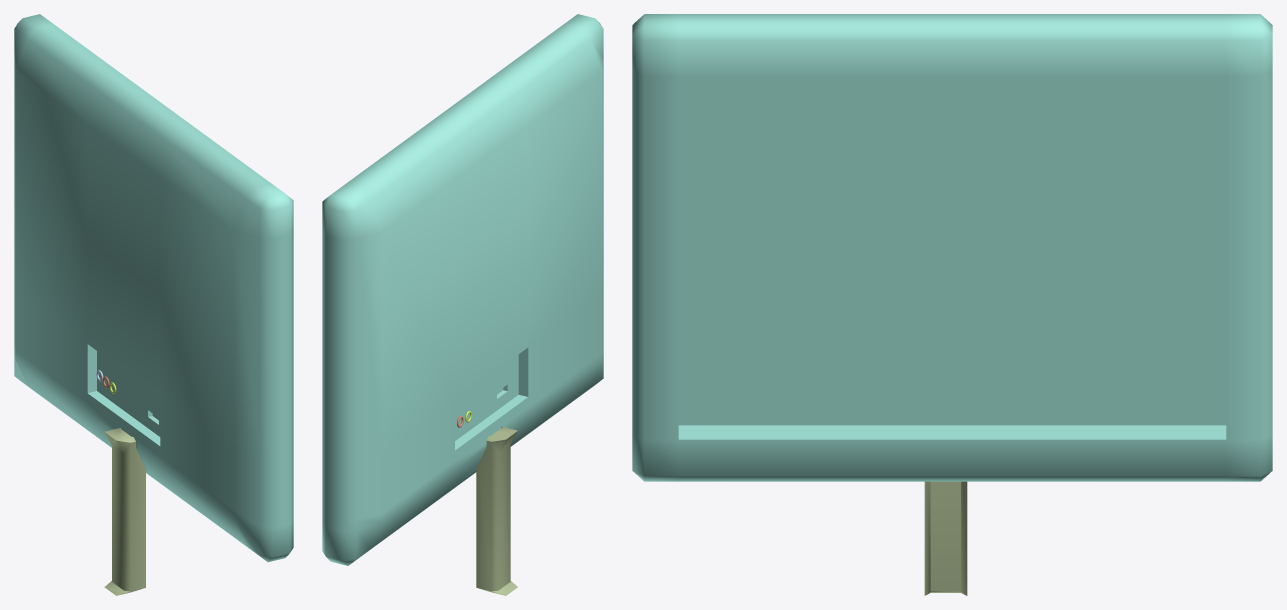
3 renders of one model, left to right at view 1: azimuth 30°, elevation 25°; view 2: azimuth 150°, elevation 25°; view 3: azimuth 270°, elevation 25°, orthographic. The views are drawn at different scales.
Parts seen in each view (by area): view 1: Torus.002_0.001, Torus.002_0.033; view 2: Torus.002_0.001, Torus.002_0.033; view 3: Torus.002_0.001, Torus.002_0.033.
Part boxes in pixels (box(x1,y1,x2,y2)): Torus.002_0.001: box(14, 14, 293, 562); Torus.002_0.033: box(104, 428, 145, 595); Torus.002_0.001: box(322, 14, 603, 565); Torus.002_0.033: box(476, 426, 517, 595); Torus.002_0.001: box(632, 14, 1272, 481); Torus.002_0.033: box(924, 481, 967, 595).
Bounding box in the file's own units: 0.1402 × 1 × 0.9789.
